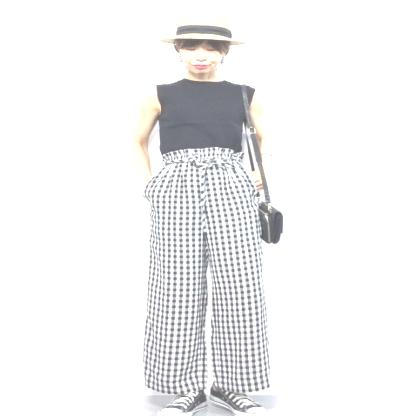dress: (147, 151, 269, 391)
jacket: (150, 78, 255, 151)
